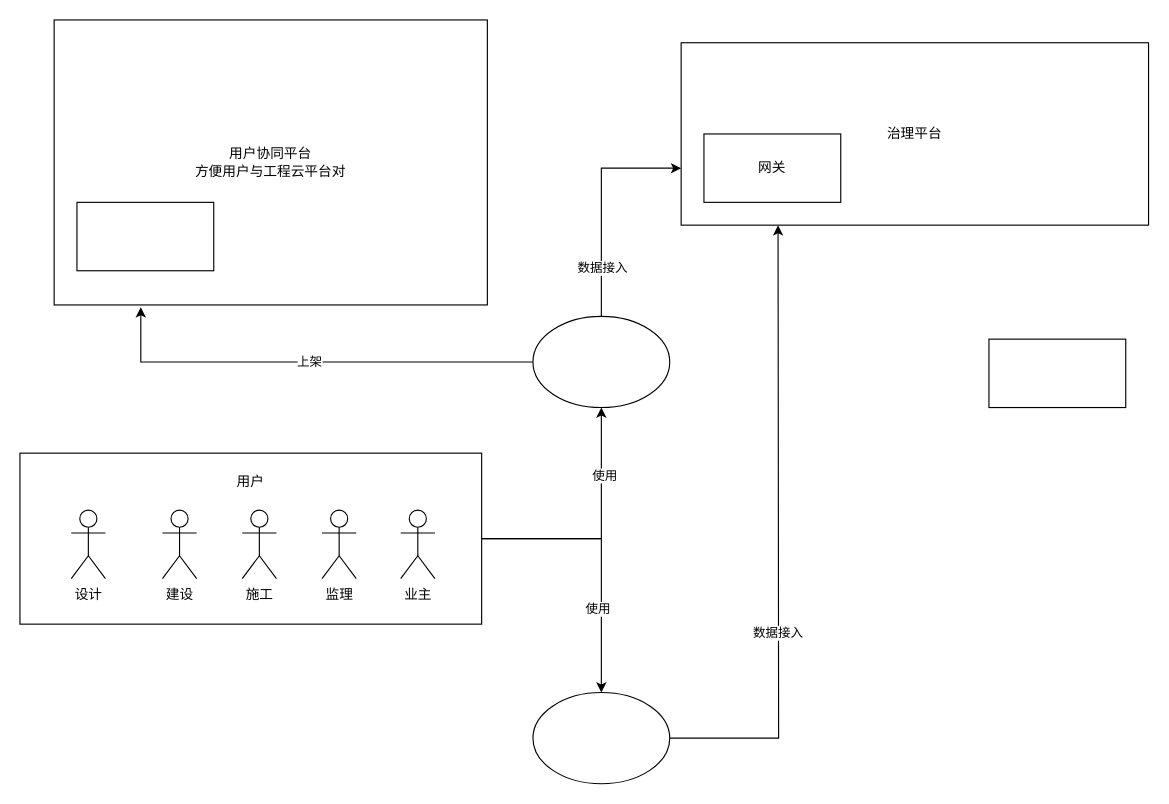
The diagram is 1169 pixels wide and 804 high, and some of its shapes have lost their labels. The shapes that lost their labels are listed below. From the top down, each one's centre as x and y in pixels, then its label:
At point 145,236: "应用商城".
At point 601,361: "第三方软件".
At point 1057,373: "隐私数据接收站".
At point 601,737: "其他第三方软件".
